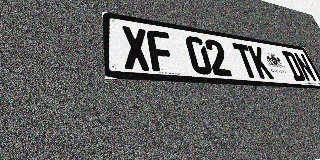0: (184, 35, 213, 75)
2: (203, 38, 232, 76)
D: (281, 50, 307, 81)
F: (146, 29, 176, 73)
K: (247, 45, 274, 79)
N: (293, 52, 318, 82)
T: (232, 43, 260, 78)
X: (121, 25, 152, 71)
